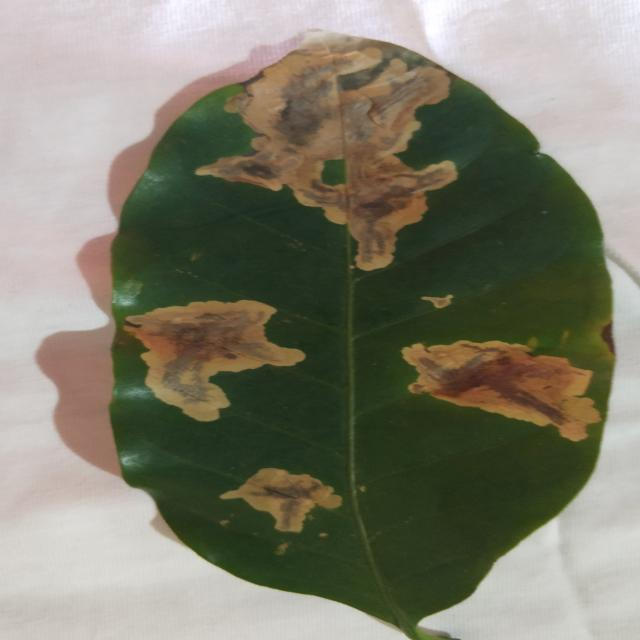Plaga-Minador: (106, 29, 617, 640)
